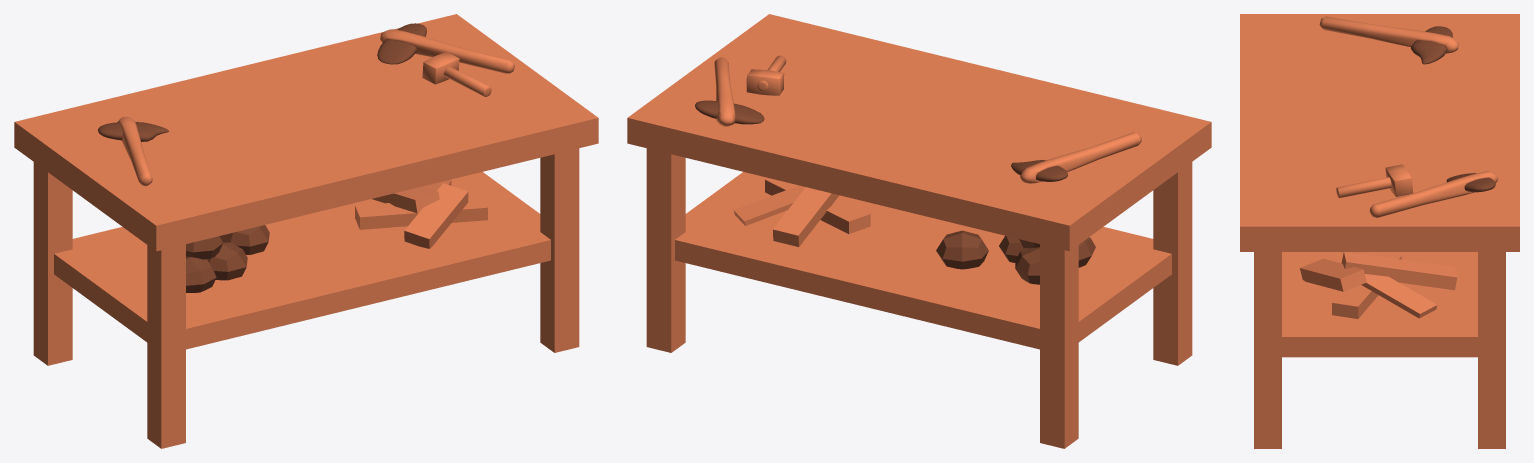
The model's file is Workbench.fbx.
The picture shows the model from 3 angles, left to right: view 1: azimuth 30°, elevation 25°; view 2: azimuth 150°, elevation 25°; view 3: azimuth 270°, elevation 25°; orthographic projection.
Visible parts, largest first — view 1: Workbench_LOD0; view 2: Workbench_LOD0; view 3: Workbench_LOD0.
Boxes of the visible parts, x1,y1,x2,y2 form: Workbench_LOD0: [14, 14, 598, 448]; Workbench_LOD0: [627, 14, 1211, 448]; Workbench_LOD0: [1240, 14, 1519, 448].
Size of what is drawn, in the model's own units: 1.8 by 0.9734 by 1.
